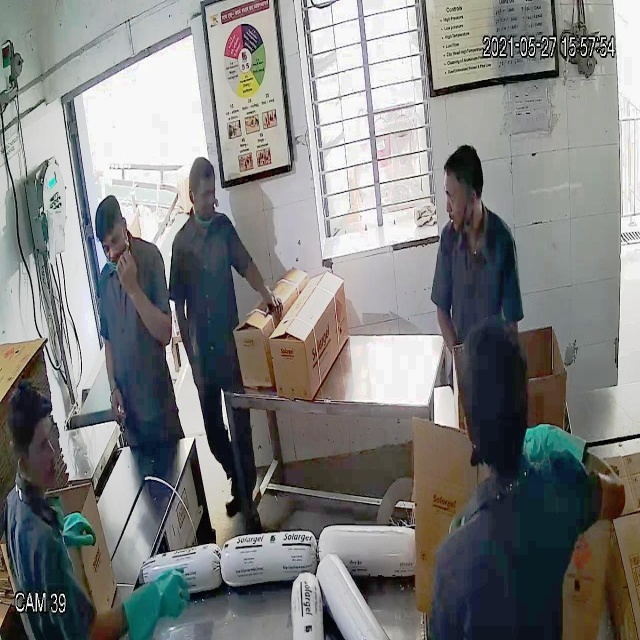Sin_gafas: (91, 224, 132, 261)
